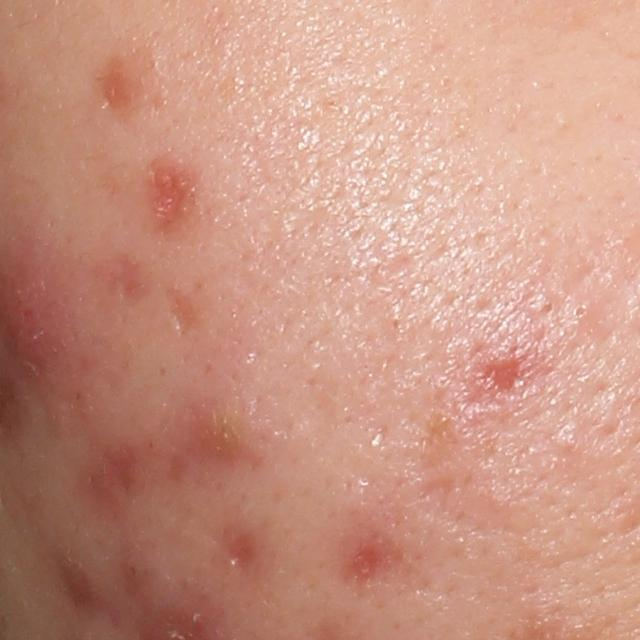atrophic_scar: (419, 407, 528, 536)
comedo: (164, 284, 205, 339), (535, 301, 559, 319), (569, 304, 590, 323)
